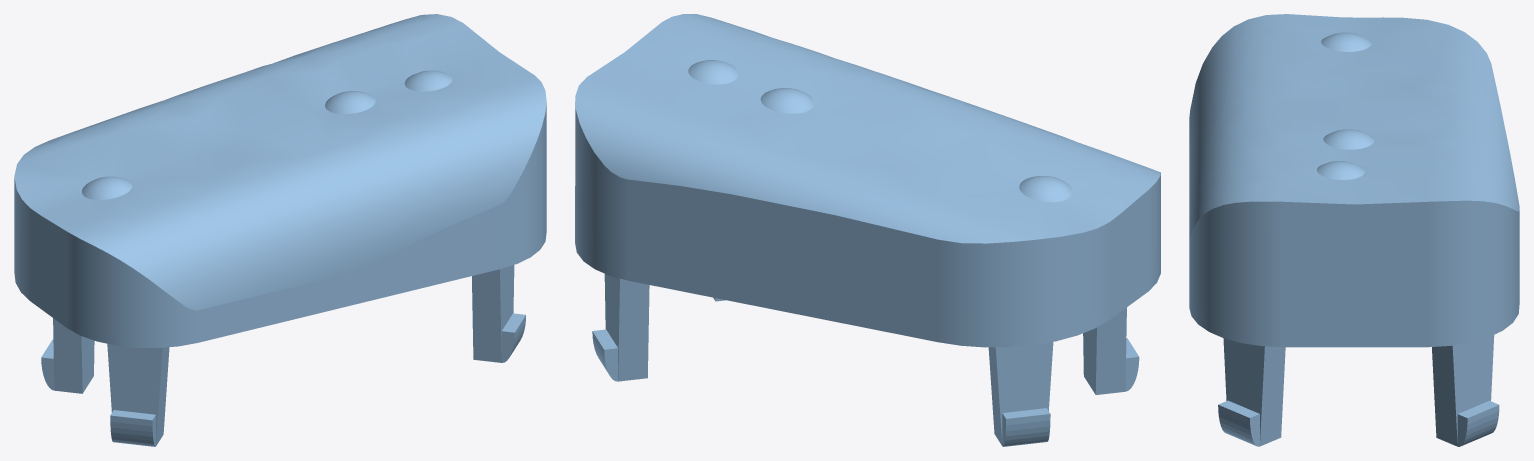
The picture shows the model from 3 angles, left to right: view 1: azimuth 30°, elevation 25°; view 2: azimuth 150°, elevation 25°; view 3: azimuth 270°, elevation 25°; orthographic projection. The views are drawn at different scales.
Parts seen in each view (by area): view 1: =>[0:1:1:2], =>[0:1:1:3], =>[0:1:1:4], =>[0:1:1:5]; view 2: =>[0:1:1:2], =>[0:1:1:5], =>[0:1:1:3]; view 3: =>[0:1:1:2], =>[0:1:1:4].
Boxes of the visible parts, x1,y1,x2,y2 form: =>[0:1:1:2]: [14, 14, 546, 347]; =>[0:1:1:3]: [107, 344, 169, 446]; =>[0:1:1:4]: [472, 265, 525, 362]; =>[0:1:1:5]: [41, 318, 94, 393]; =>[0:1:1:2]: [575, 14, 1160, 381]; =>[0:1:1:5]: [988, 342, 1053, 446]; =>[0:1:1:3]: [1083, 307, 1139, 394]; =>[0:1:1:2]: [1189, 14, 1519, 446]; =>[0:1:1:4]: [1218, 338, 1285, 446].
Size of the model in its own units: 38.92 by 20.3 by 23.28.
